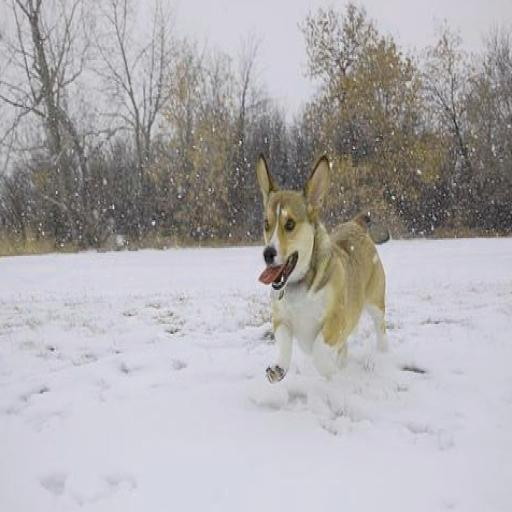dog_face: (251, 149, 330, 301)
